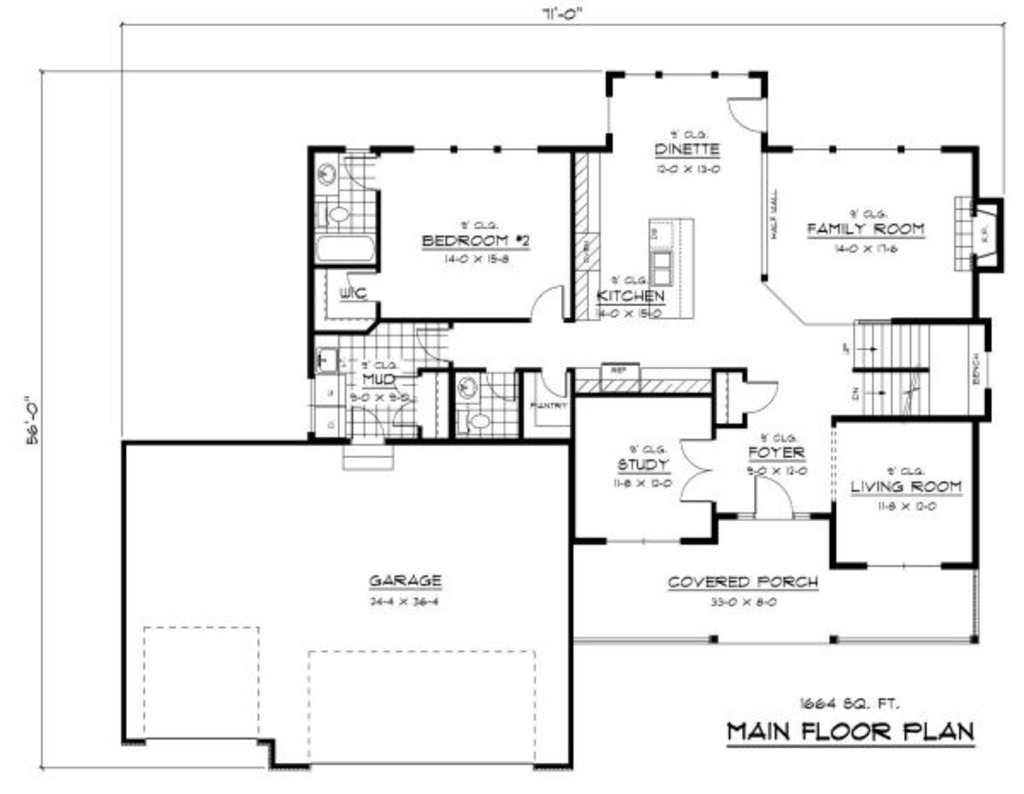door: (678, 436, 716, 505), (751, 474, 792, 522), (745, 377, 783, 421), (347, 407, 388, 447), (724, 92, 768, 128), (525, 284, 567, 321), (539, 364, 573, 396)
kitchen_bar: (644, 216, 699, 324)
large_sink: (455, 407, 492, 435)
small_sink: (315, 146, 344, 196), (457, 372, 482, 406)
stairs: (836, 319, 992, 423)
tub: (311, 228, 379, 272)
windows: (406, 139, 541, 159), (620, 64, 750, 81), (789, 141, 944, 155), (861, 556, 944, 574), (599, 534, 683, 545)
